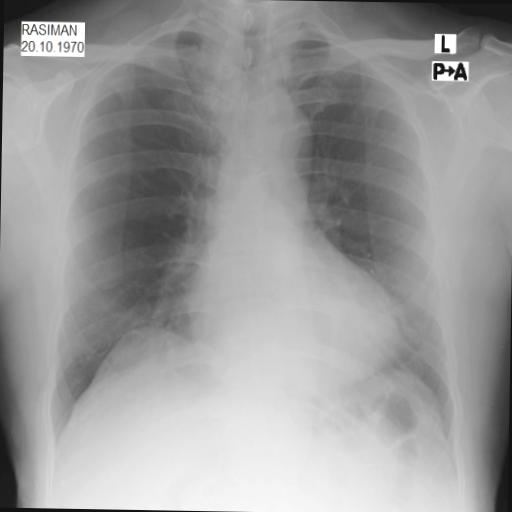kardiomegali: (176, 222, 410, 392)
